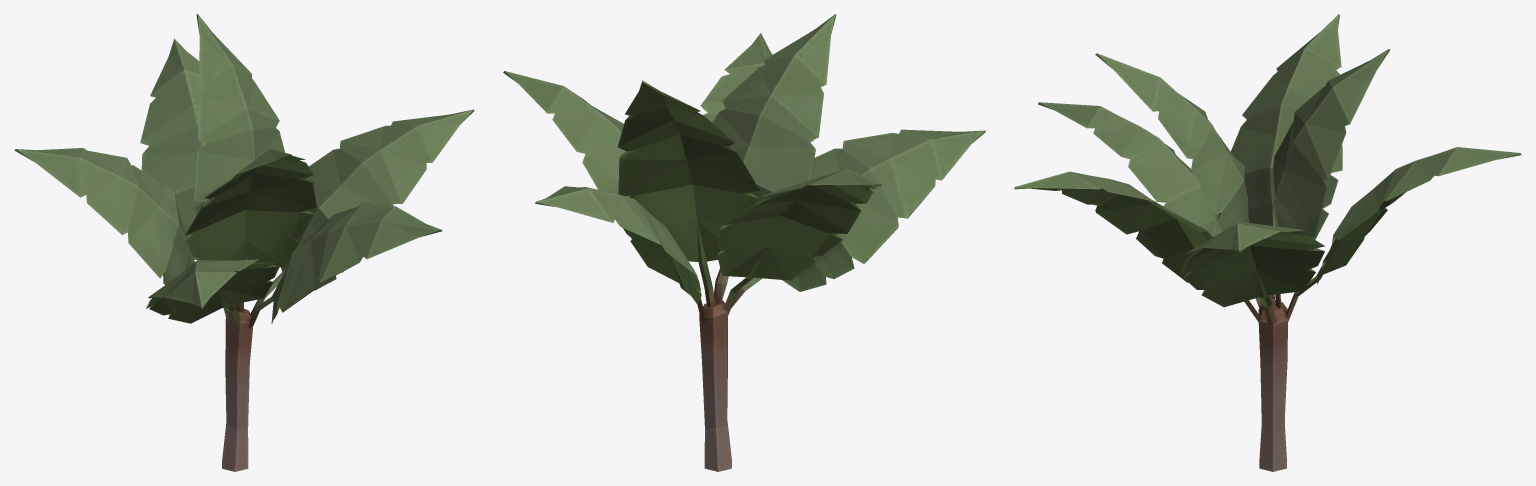
Rendered from palm-tree.glb.
3 views of the same model, side by side, from view 1: azimuth 30°, elevation 25°; view 2: azimuth 150°, elevation 25°; view 3: azimuth 270°, elevation 25° (orthographic). The views are drawn at different scales.
Visible parts, largest first — view 1: FishtailPalmTree_mesh; view 2: FishtailPalmTree_mesh; view 3: FishtailPalmTree_mesh.
Part boxes in pixels (<box>): FishtailPalmTree_mesh: <box>14,14,474,471</box>; FishtailPalmTree_mesh: <box>503,14,985,471</box>; FishtailPalmTree_mesh: <box>1014,14,1521,471</box>.
Size of the model in its own units: 8.22 by 7.75 by 8.37.
Materials: 1 (1 with a texture image).
